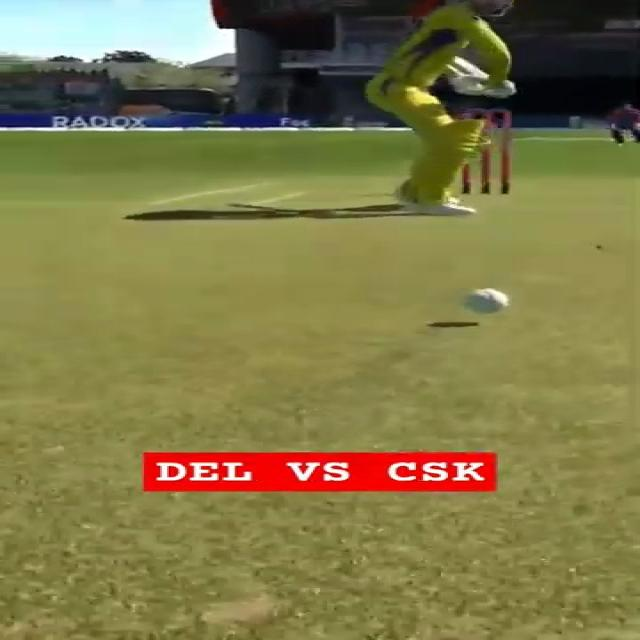ball: (459, 287, 508, 314)
